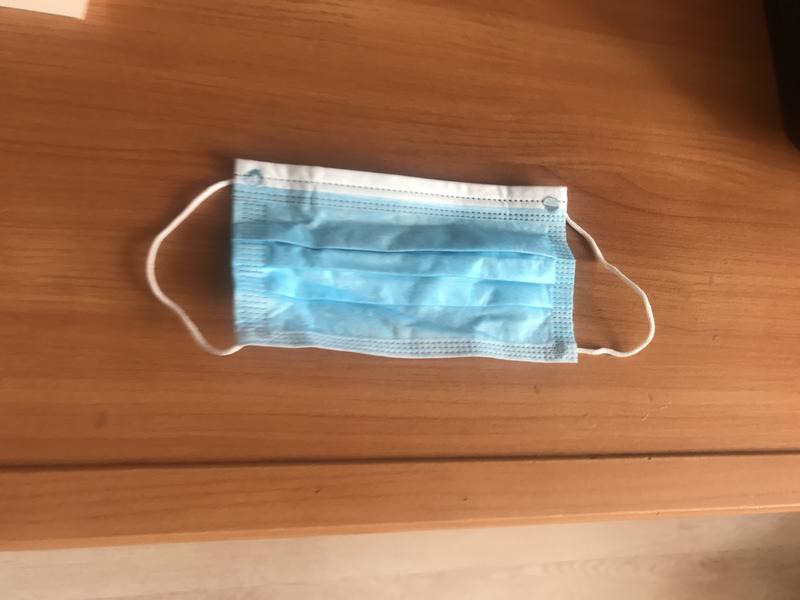medical_mask: (147, 158, 654, 366)
